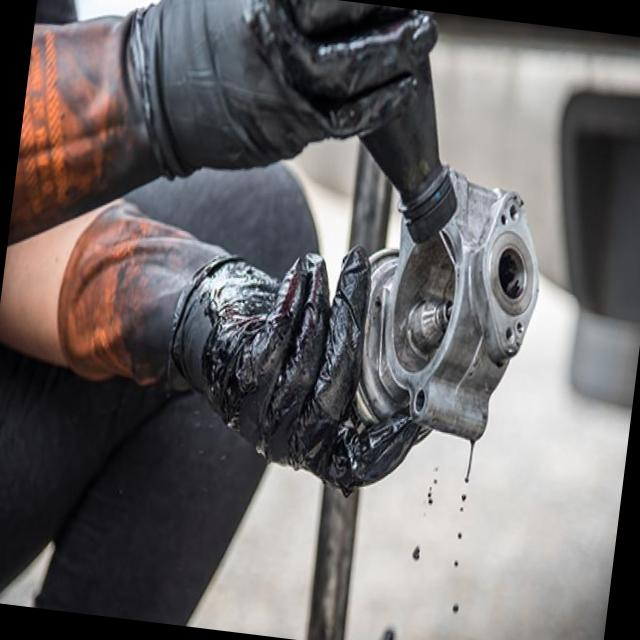Gloves: (10, 0, 417, 270), (64, 211, 437, 488)
